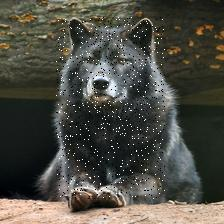WOLF: (56, 18, 165, 200)
